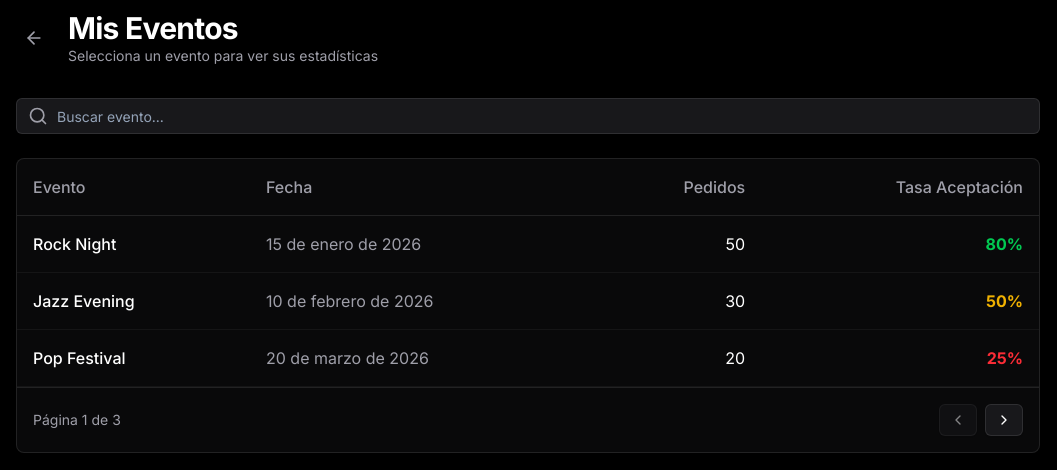
Test: EventListPage › handles pagination prev/next clicks
expect the text "Página 1 de 3" is shown: met, box [33,410,121,430]
expect the 1st button is disabled: met, box [939,404,977,436]
What coordinates should you click on to do the following:
click the 2nd button
I would click on:
 (1004, 420)
Its box is [985,404,1023,436].
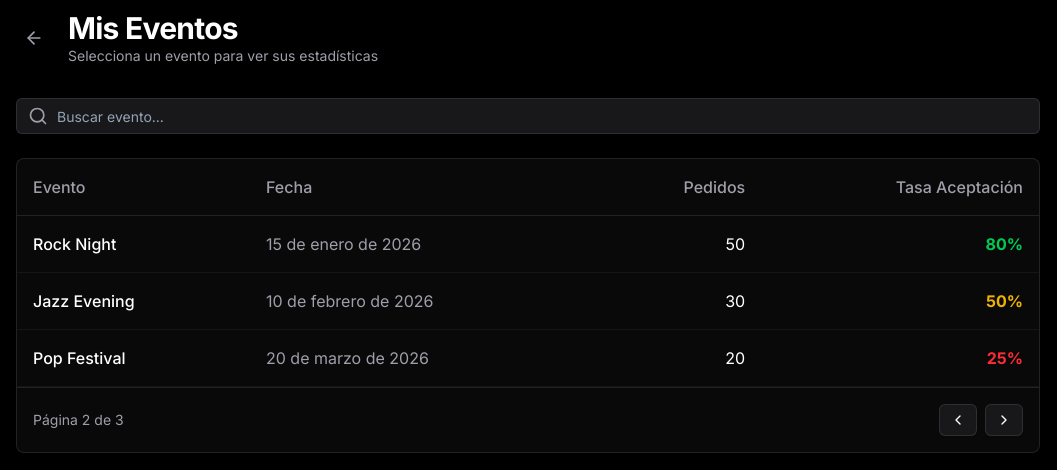
expect the text "Página 2 de 3" is shown: met, box [33,410,124,430]
